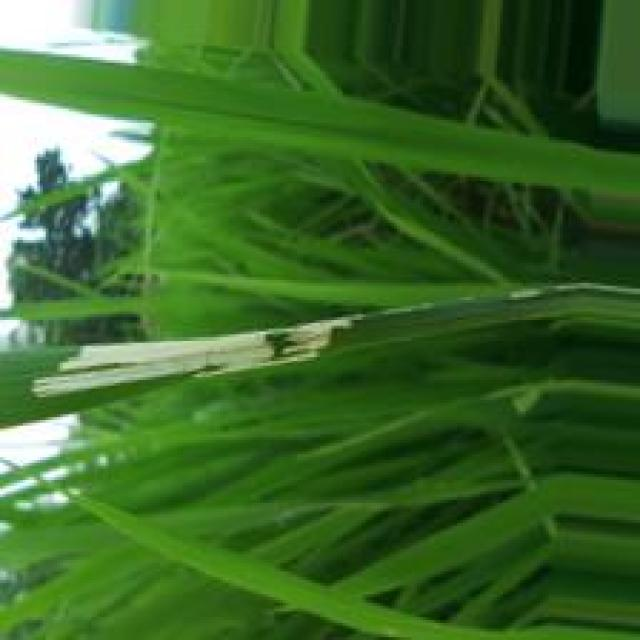Rice_Hispa: (30, 317, 363, 401)
